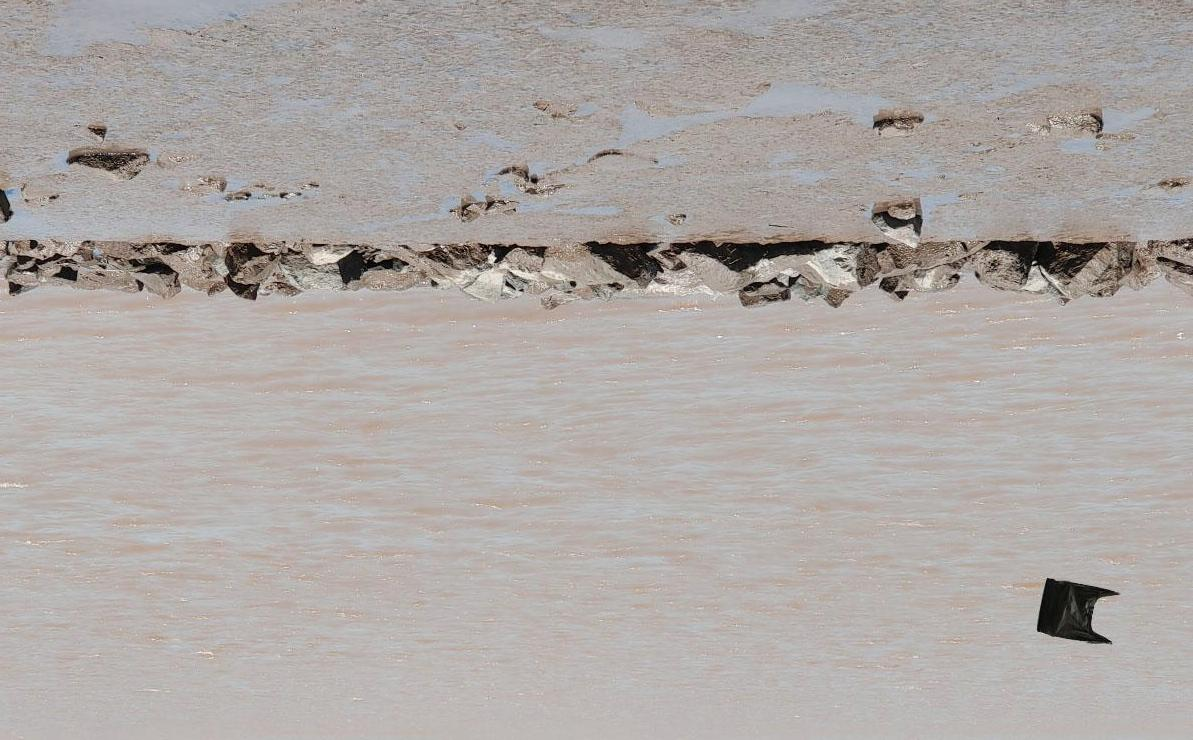Trash: (1034, 572, 1120, 649)
